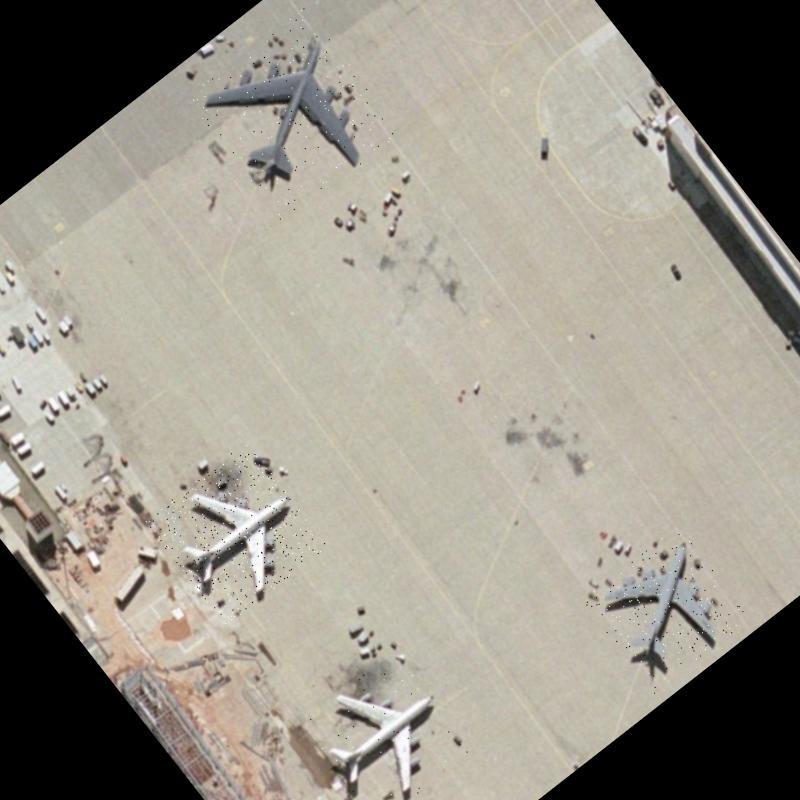A11: (145, 441, 328, 626), (293, 644, 473, 800)
A14: (580, 522, 752, 694)
A8: (184, 6, 403, 226)
